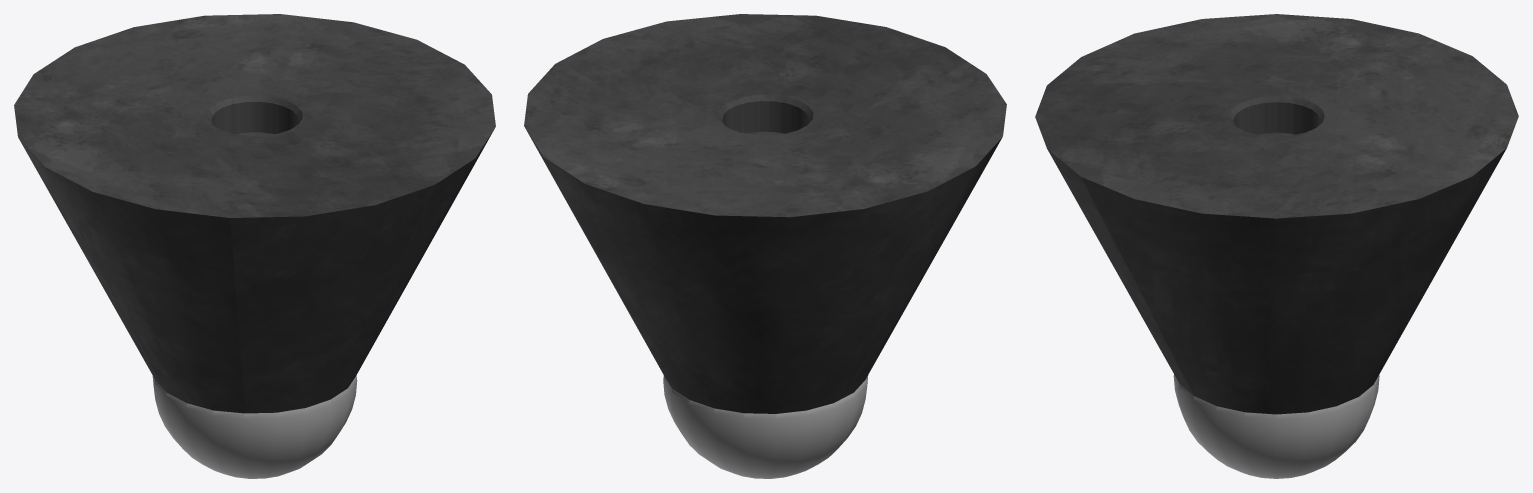
The model's file is drone_main.fbx.
3 views of the same model, side by side, from view 1: azimuth 30°, elevation 25°; view 2: azimuth 150°, elevation 25°; view 3: azimuth 270°, elevation 25° (orthographic).
Visible parts, largest first — view 1: pSphere2; view 2: pSphere2; view 3: pSphere2.
Part boxes in pixels (x1,y1,x2,y2): pSphere2: (14,14,495,478); pSphere2: (524,14,1006,478); pSphere2: (1035,14,1518,478).
Size of the model in its own units: 4.89 by 3.94 by 4.89.
Materials: 3 (2 with a texture image).
